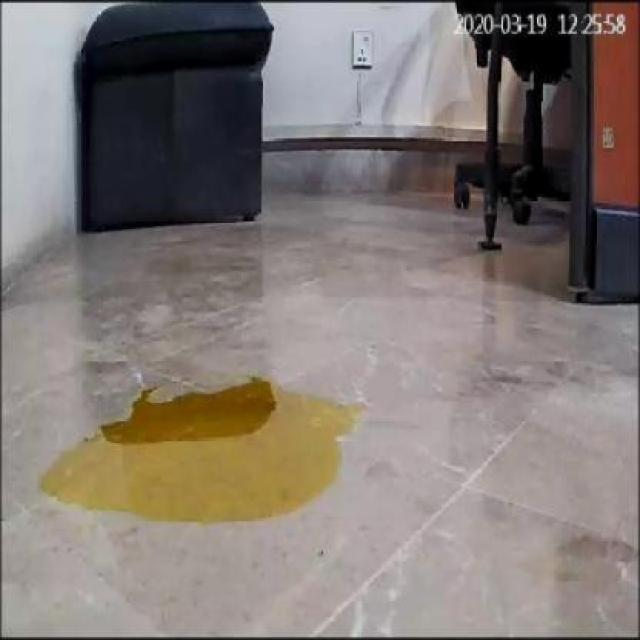spillage: (48, 380, 358, 521)
